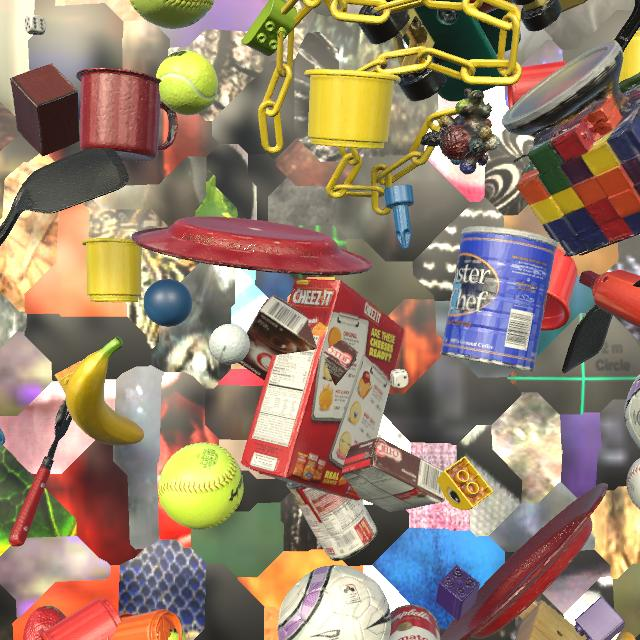ycb_002_master_chef_can: (440, 226, 558, 372)
ycb_003_cracker_box: (240, 278, 405, 501)
ycb_005_tomato_soup_can: (286, 482, 377, 561), (389, 605, 441, 640)
ycb_008_pudding_box: (238, 295, 358, 386), (341, 437, 445, 513)
ycb_011_banana: (65, 337, 144, 446), (616, 631, 635, 640)
ycb_012_strawberry: (23, 606, 66, 640)
